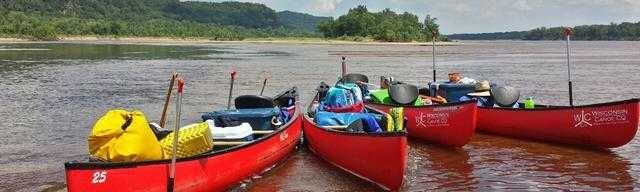kayak: (64, 77, 305, 192), (302, 57, 409, 192), (474, 86, 639, 151), (359, 72, 478, 148), (436, 69, 476, 104)
